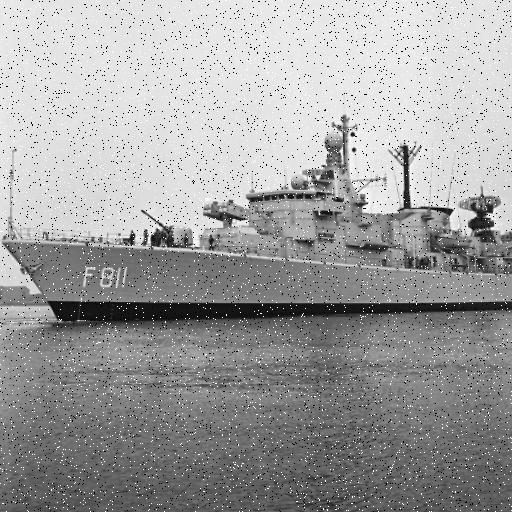Fragata: (1, 66, 512, 328)
